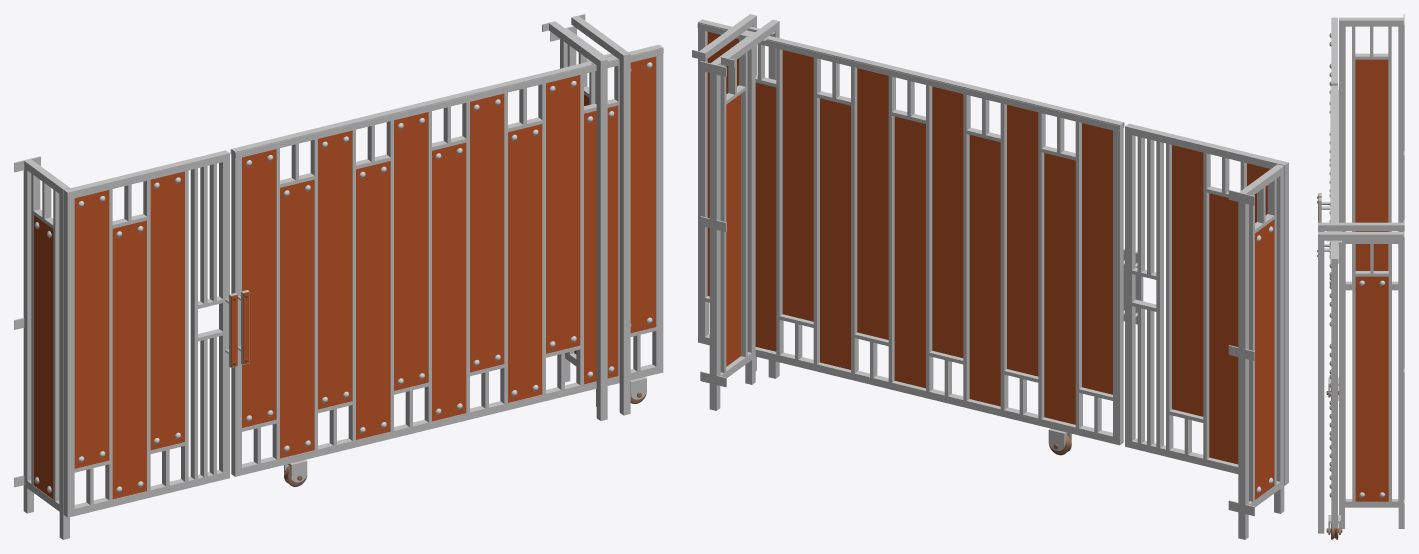
Rendered from pagar-concept-002-RAW-REV0112.glb.
3 views of the same model, side by side, from view 1: azimuth 30°, elevation 25°; view 2: azimuth 150°, elevation 25°; view 3: azimuth 270°, elevation 25° (orthographic). The views are drawn at different scales.
Visible parts, largest first — view 1: Plane.095, Plane.122, Plane.094, Plane.092, Plane.123, Plane.093, Plane.108, Plane.118, Plane.119, Plane.116, Plane.100, Sphere.013; view 2: Plane.095, Plane.094, Plane.122, Plane.123, Plane.092, Plane.093, Plane.119, Plane.114, Plane.118, Plane.113, Plane.115, Plane.116 (+4 smaller); view 3: Plane.115, Plane.118, Plane.114, Plane.108, Plane.119, Plane.123, Plane.113, Plane.116, Plane.093, Plane.100, Sphere.013, Plane.096 (+2 smaller).
Boxes of the visible parts, x1,y1,x2,y2 form: Plane.095: (242,56,655,458); Plane.122: (74,171,184,499); Plane.094: (242,65,656,463); Plane.092: (74,163,222,504); Plane.123: (231,44,663,476); Plane.093: (63,150,229,517); Plane.108: (542,14,630,420); Plane.118: (33,215,53,499); Plane.119: (23,158,69,514); Plane.116: (31,173,59,501); Plane.100: (230,48,663,157); Sphere.013: (246,62,652,451); Plane.095: (707,32,1112,424); Plane.094: (705,39,1112,432); Plane.122: (1172,145,1270,464); Plane.123: (698,19,1123,445); Plane.092: (1132,136,1246,459); Plane.093: (1125,123,1288,485); Plane.119: (1238,164,1284,514); Plane.114: (709,37,755,385); Plane.118: (1255,220,1274,499); Plane.113: (720,52,747,372); Plane.115: (726,94,740,366); Plane.116: (1249,179,1276,501); Plane.115: (1355,276,1388,501); Plane.118: (1355,59,1388,270); Plane.114: (1339,240,1404,507); Plane.108: (1318,220,1404,533); Plane.119: (1339,17,1404,290); Plane.123: (1331,85,1337,528); Plane.113: (1352,244,1391,501); Plane.116: (1352,26,1391,283); Plane.093: (1331,17,1337,85); Plane.100: (1330,86,1338,263); Sphere.013: (1329,102,1331,497); Plane.096: (1318,198,1330,251).
Bounding box in the file's own units: 3.5 × 1.99 × 0.5297.
